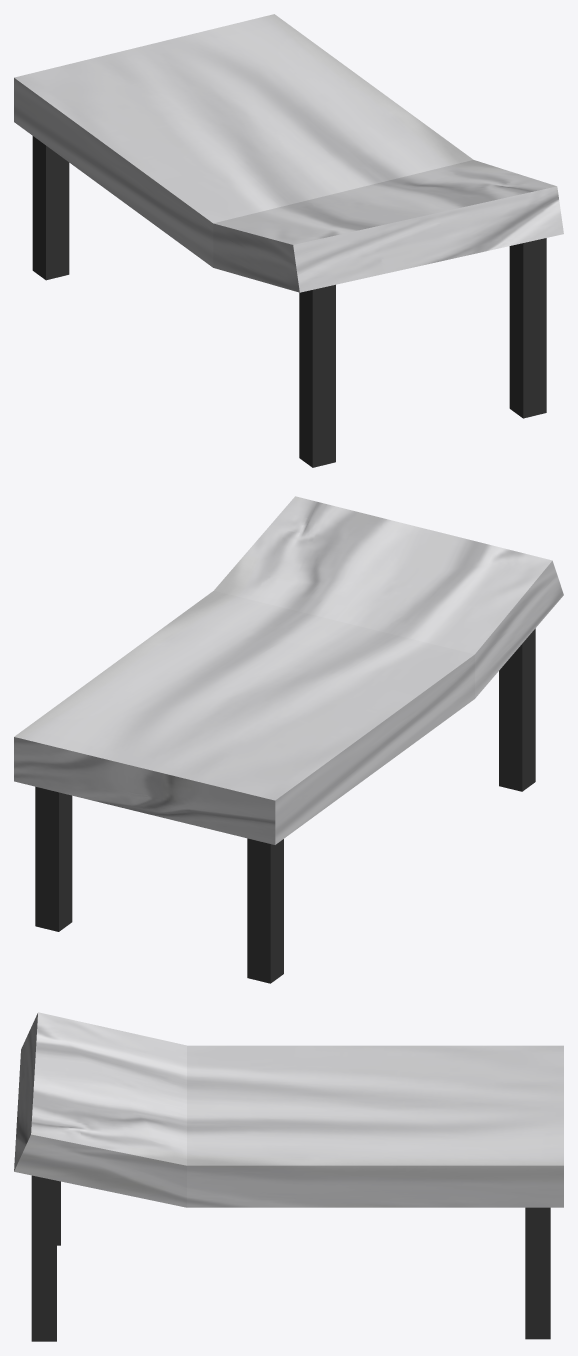
The model's file is bolnickikrevet.glb.
3 renders of one model, top to bottom at view 1: azimuth 30°, elevation 25°; view 2: azimuth 150°, elevation 25°; view 3: azimuth 270°, elevation 25°, orthographic. The views are drawn at different scales.
Visible parts, largest first — view 1: Cube; view 2: Cube; view 3: Cube.
Boxes of the visible parts, bbox=[...] form: Cube: bbox=[14, 14, 563, 467]; Cube: bbox=[14, 496, 563, 983]; Cube: bbox=[14, 1012, 563, 1341].
Size of the model in its own units: 1.01 by 0.8303 by 1.93.
2 materials, 1 textured.
